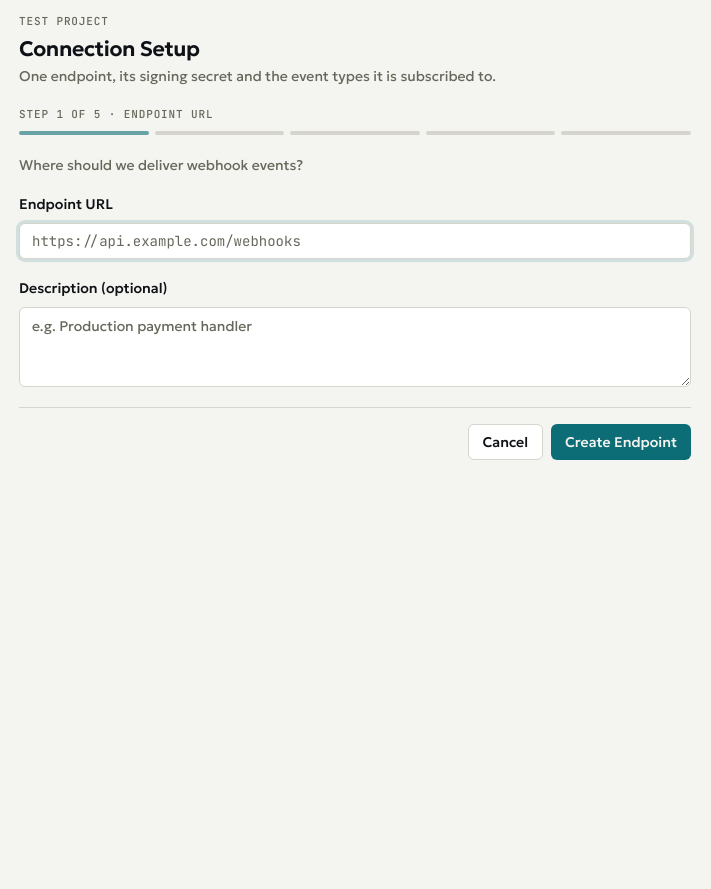
Test: ConnectionSetupPage — the secret step › narrowing the scheme to X-Signature saves it and withdraws the whsec_ secret it no longer applies to
In the field labelled "Endpoint URL": (355, 241) [19,223,691,259], type "https://api.acme.io/webhooks"
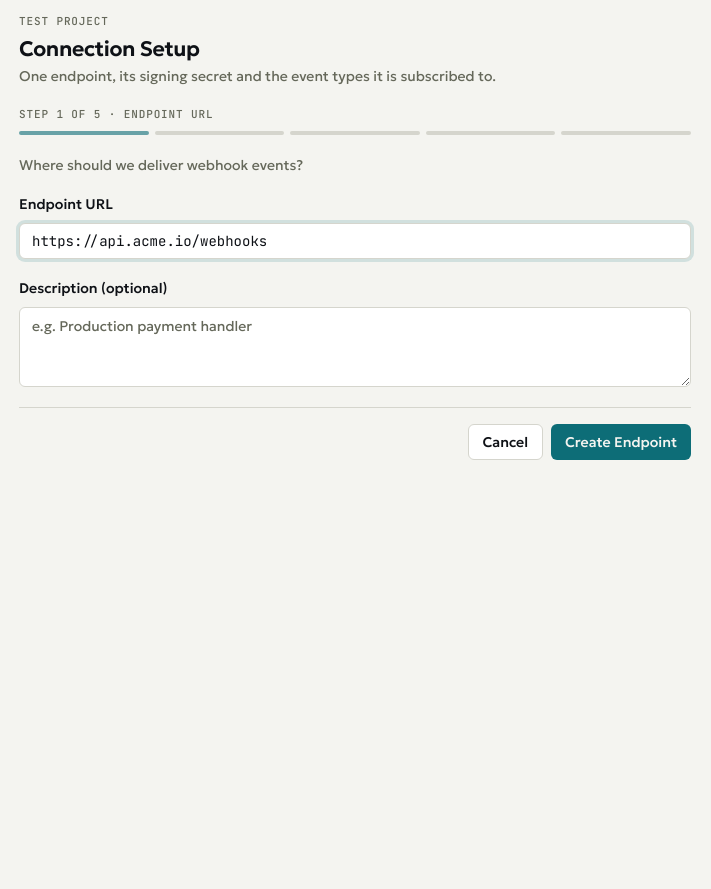
Click the button "Create Endpoint": (621, 442) [551,424,691,460]
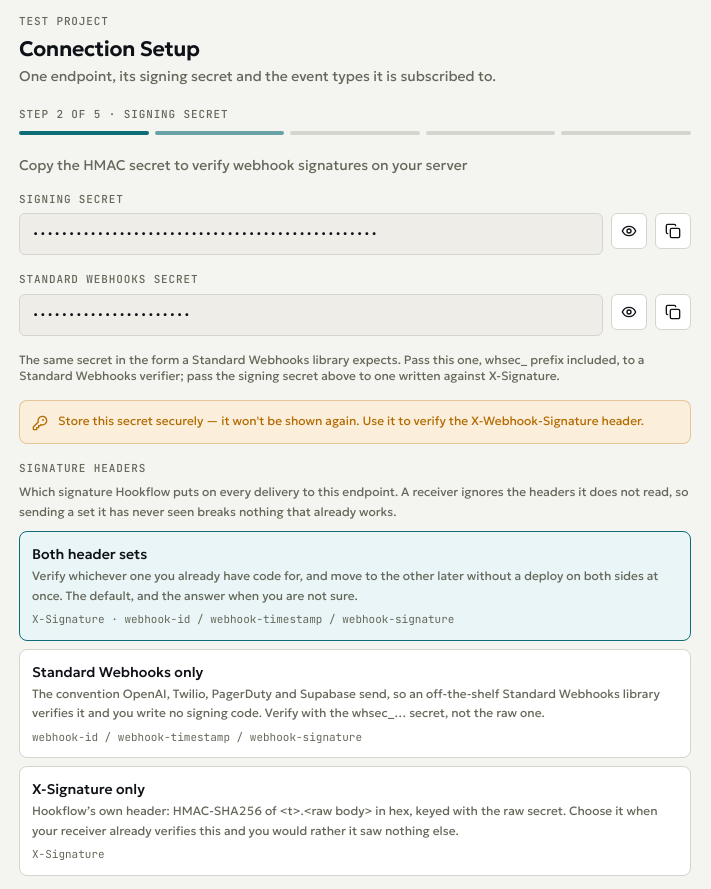
Click the radio button labelled "X-Signature only": (355, 821) [19,766,691,876]
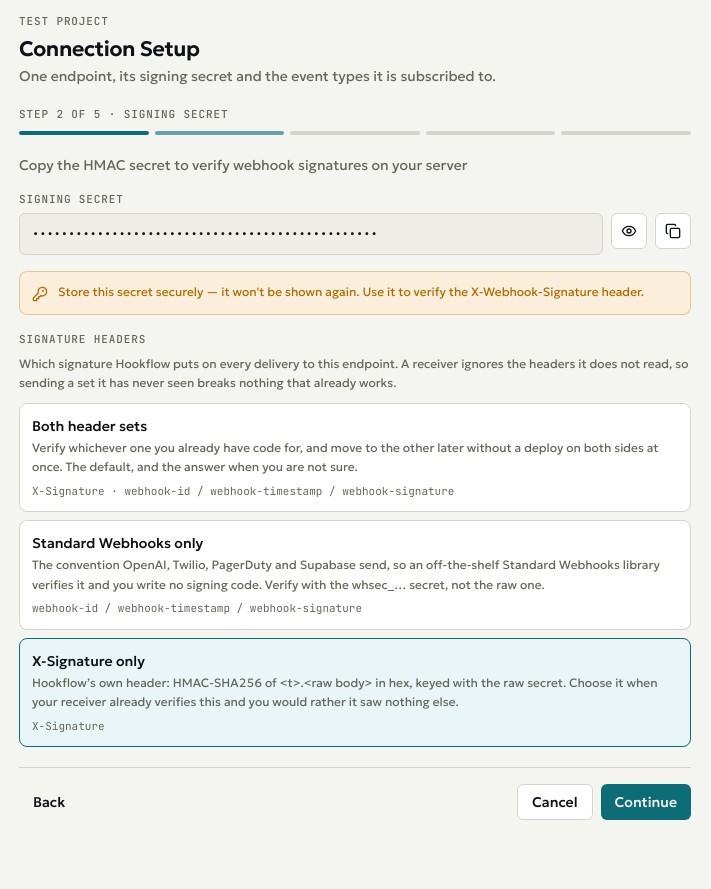
Expected: the number of elements with test id "signing-secret" is 1, [19,213,603,255]
